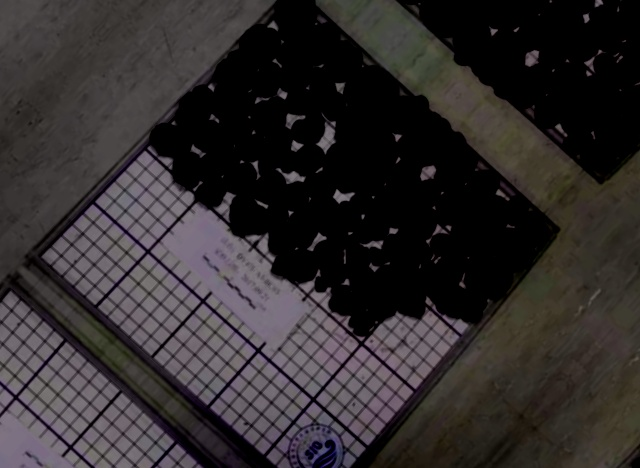halobolite: (262, 1, 330, 49), (239, 30, 292, 88), (263, 121, 338, 161), (324, 31, 367, 95), (448, 209, 520, 246), (288, 23, 327, 81), (321, 246, 367, 290), (284, 77, 333, 117), (433, 283, 484, 319), (346, 118, 390, 159), (180, 131, 218, 178), (412, 191, 463, 226), (213, 156, 248, 207), (256, 81, 296, 124), (438, 141, 486, 173), (349, 87, 388, 126), (440, 243, 484, 277), (260, 185, 302, 219), (225, 114, 258, 157), (353, 153, 385, 196), (397, 138, 442, 167), (204, 77, 239, 114), (390, 113, 420, 156), (294, 179, 331, 213), (154, 110, 188, 147), (177, 85, 207, 126), (331, 206, 366, 241), (274, 161, 315, 190), (291, 210, 329, 241), (285, 230, 317, 266), (238, 195, 268, 233), (199, 106, 233, 138), (382, 287, 415, 319), (251, 145, 283, 178), (363, 203, 385, 250), (360, 196, 393, 226), (324, 185, 359, 213), (194, 179, 222, 214), (373, 89, 401, 123), (323, 166, 357, 193), (231, 86, 260, 117), (262, 217, 293, 244), (403, 238, 429, 270), (328, 146, 353, 171), (380, 180, 406, 204), (241, 167, 264, 193), (425, 121, 449, 145), (376, 235, 399, 258), (342, 303, 369, 321)
